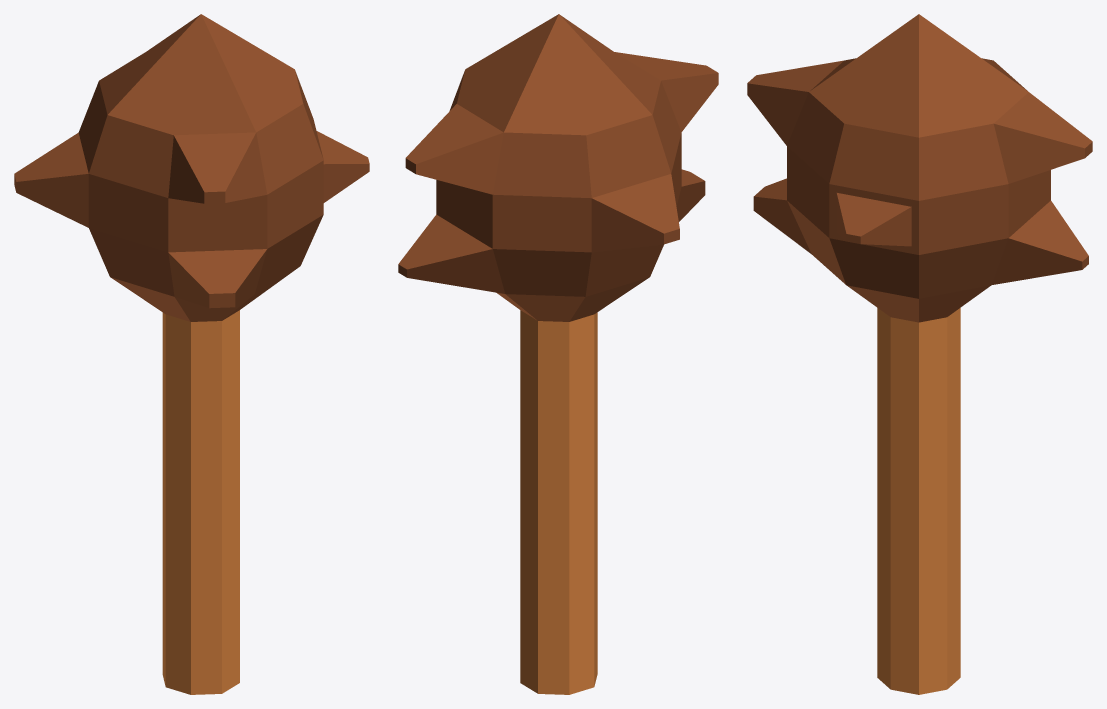
Rendered from bronze_warhammer.glb.
3 renders of one model, left to right at view 1: azimuth 30°, elevation 25°; view 2: azimuth 150°, elevation 25°; view 3: azimuth 270°, elevation 25°, orthographic.
Parts seen in each view (by area): view 1: Cube; view 2: Cube; view 3: Cube.
Part boxes in pixels (bbox=[...]): Cube: bbox=[14, 14, 369, 694]; Cube: bbox=[398, 14, 718, 694]; Cube: bbox=[747, 14, 1092, 694].
Bounding box in the file's own units: 1.55 × 3.4 × 1.6.
